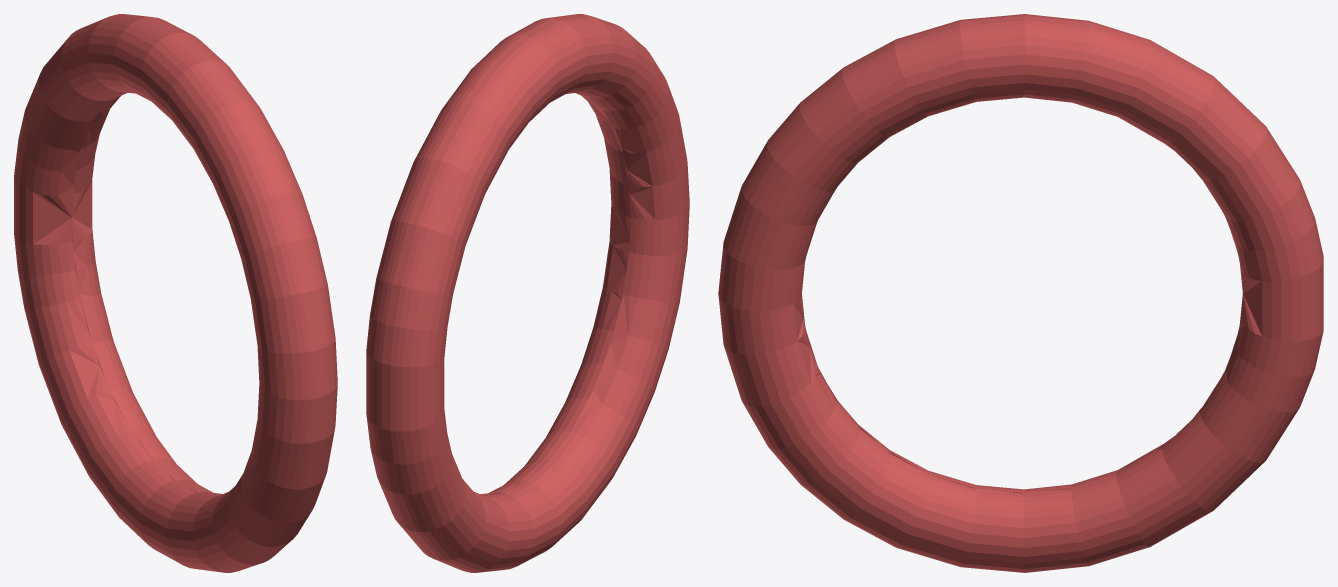
File: female plug o ring .obj
3 renders of one model, left to right at view 1: azimuth 30°, elevation 25°; view 2: azimuth 150°, elevation 25°; view 3: azimuth 270°, elevation 25°, orthographic. The views are drawn at different scales.
Visible parts, largest first — view 1: female_plug_o_ring_; view 2: female_plug_o_ring_; view 3: female_plug_o_ring_.
Part boxes in pixels (<box>): female_plug_o_ring_: <box>14,14,337,572</box>; female_plug_o_ring_: <box>366,14,689,572</box>; female_plug_o_ring_: <box>718,14,1323,572</box>.
Bounding box in the file's own units: 0.0025 × 0.0181 × 0.0181.
